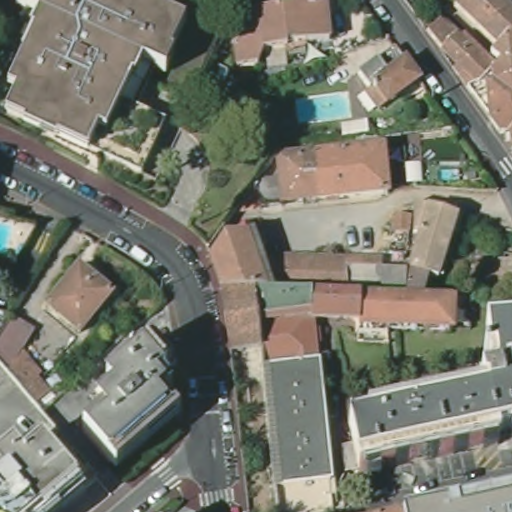pool: (295, 89, 354, 123), (1, 215, 19, 255)
